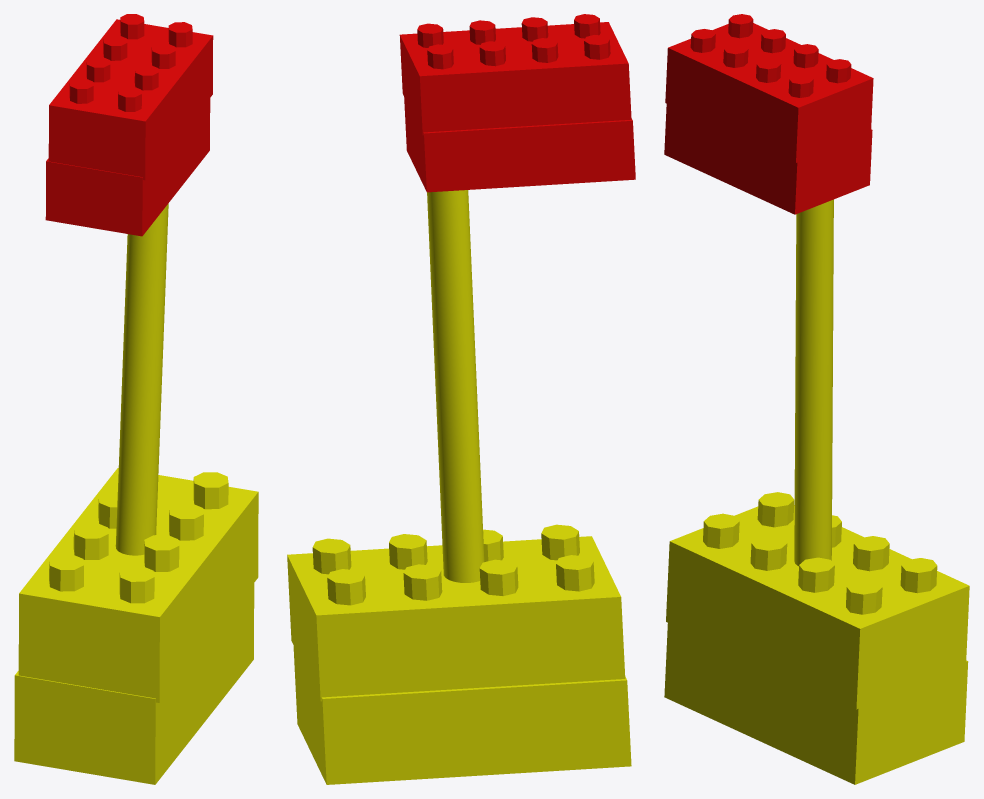
File: Finish Flag.fbx
3 renders of one model, left to right at view 1: azimuth 30°, elevation 25°; view 2: azimuth 150°, elevation 25°; view 3: azimuth 270°, elevation 25°, orthographic. The views are drawn at different scales.
Parts seen in each view (by area): view 1: pasted__pCube6; view 2: pasted__pCube6; view 3: pasted__pCube6.
Boxes of the visible parts, x1,y1,x2,y2 form: pasted__pCube6: [14, 14, 258, 784]; pasted__pCube6: [287, 14, 635, 784]; pasted__pCube6: [664, 14, 969, 784].
Bounding box in the file's own units: 3.97 × 9 × 3.75.
